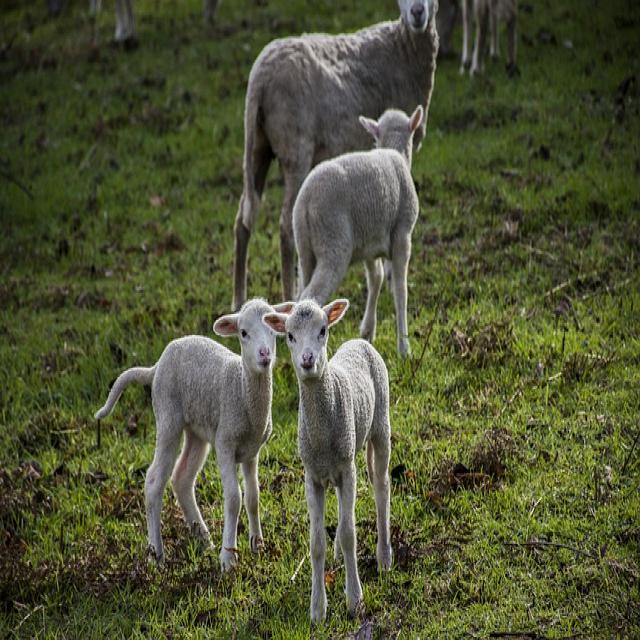sheep: (230, 0, 439, 314), (93, 296, 289, 574), (263, 296, 392, 626), (291, 104, 423, 359), (458, 0, 519, 78)
